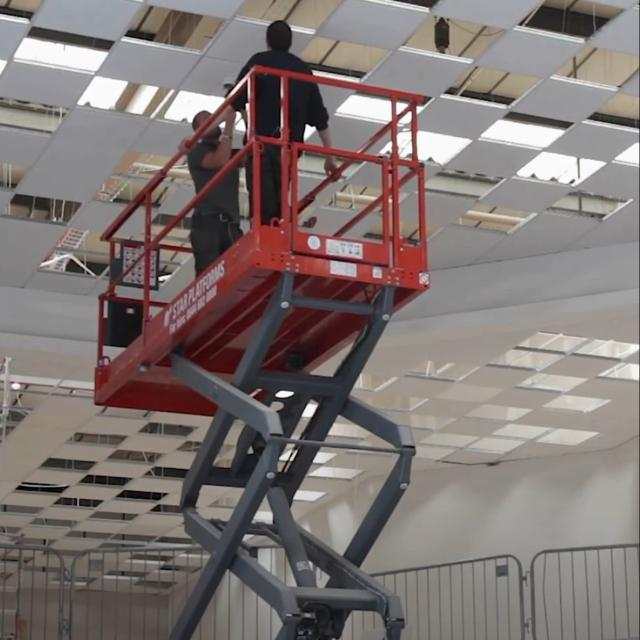2m above platform: (104, 76, 428, 640)
worker: (239, 18, 310, 68)
